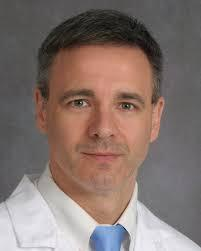normalEye: (55, 82, 148, 122)
normalMouth: (71, 141, 134, 168)
